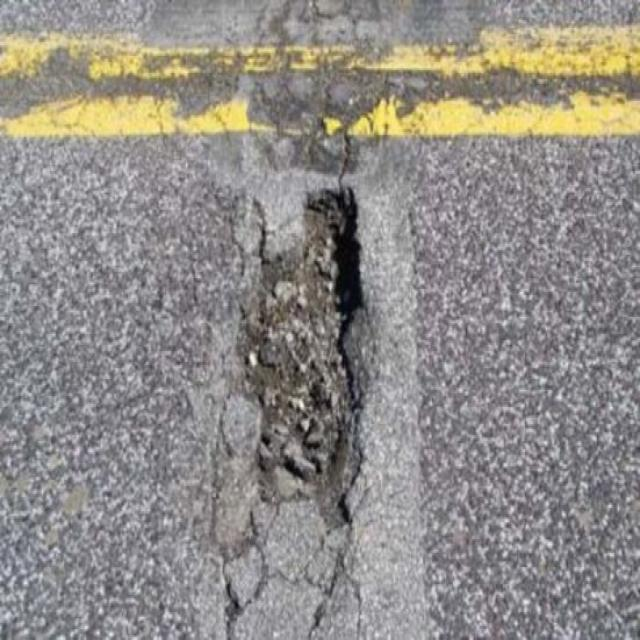Pothole: (235, 178, 372, 542)
